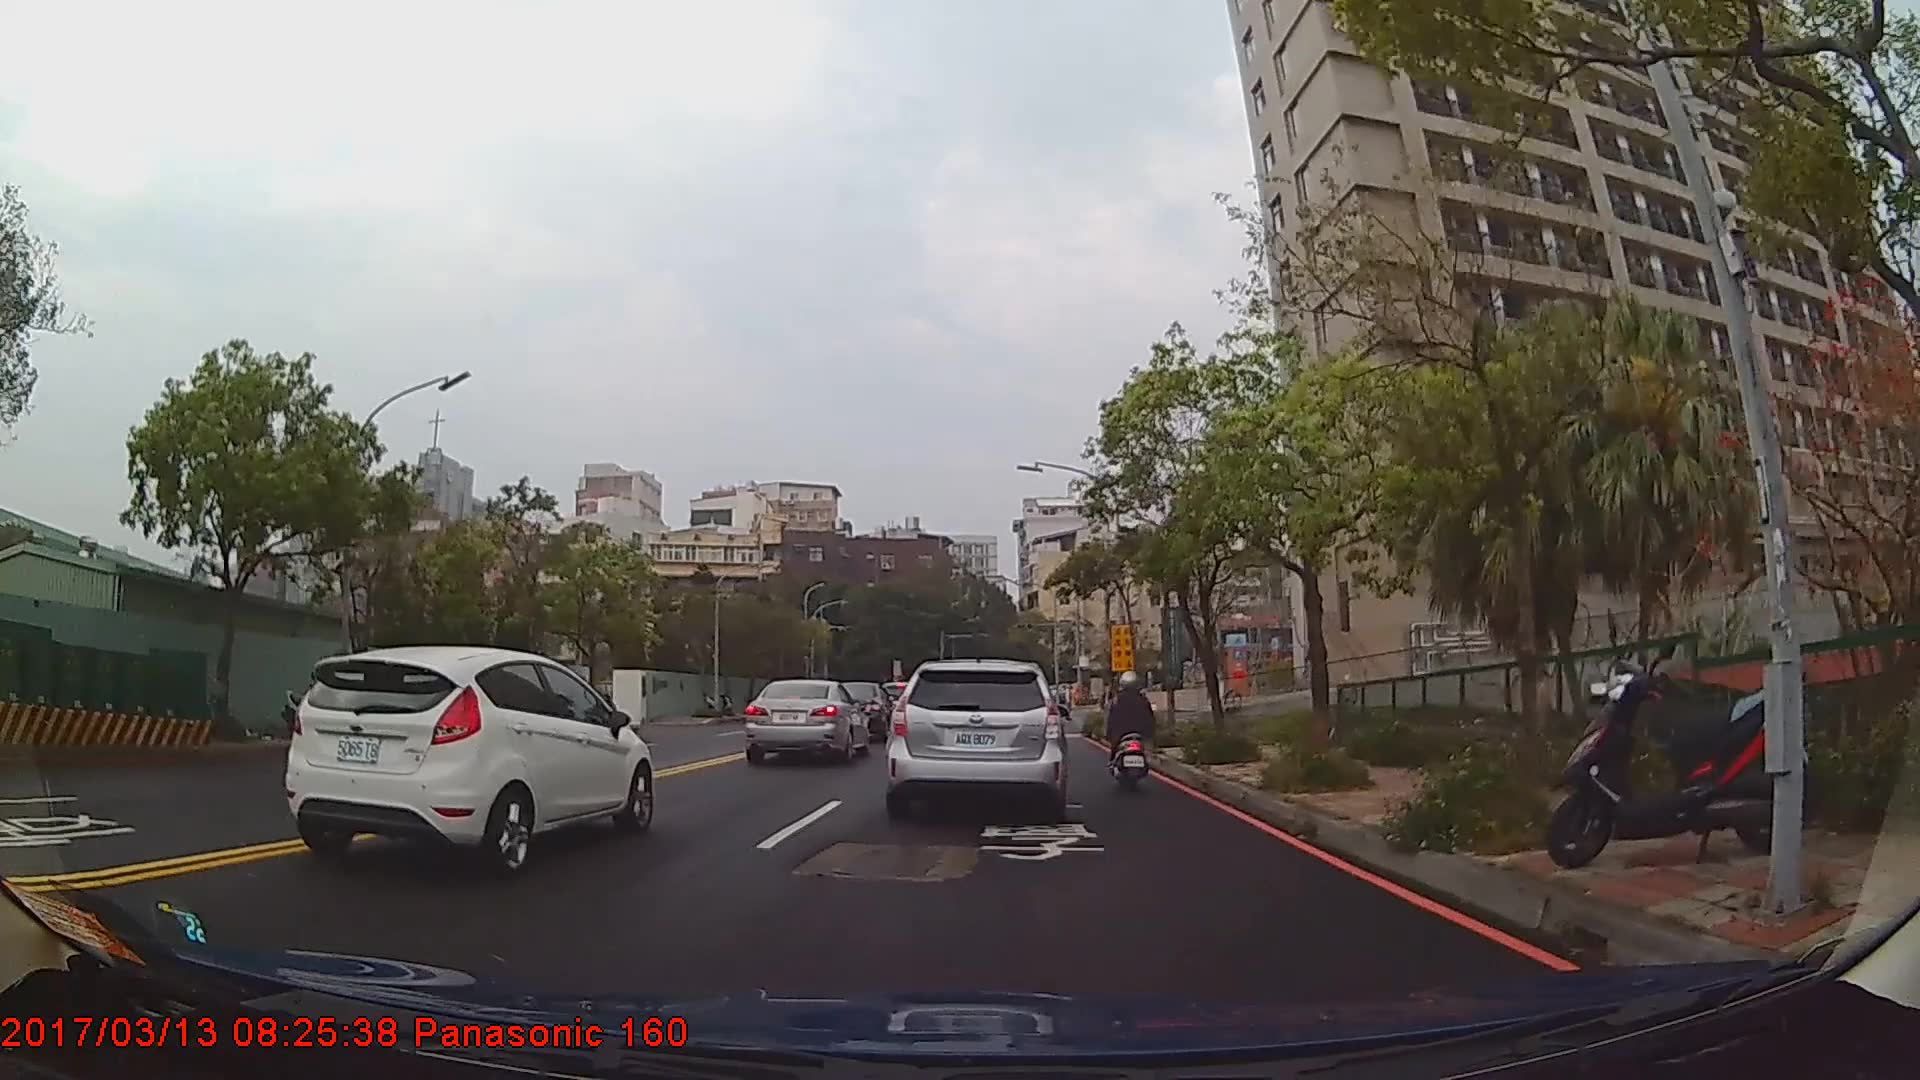rider: (1108, 669, 1159, 794)
vehicle: (285, 644, 654, 878), (887, 659, 1063, 818), (743, 677, 868, 764)
